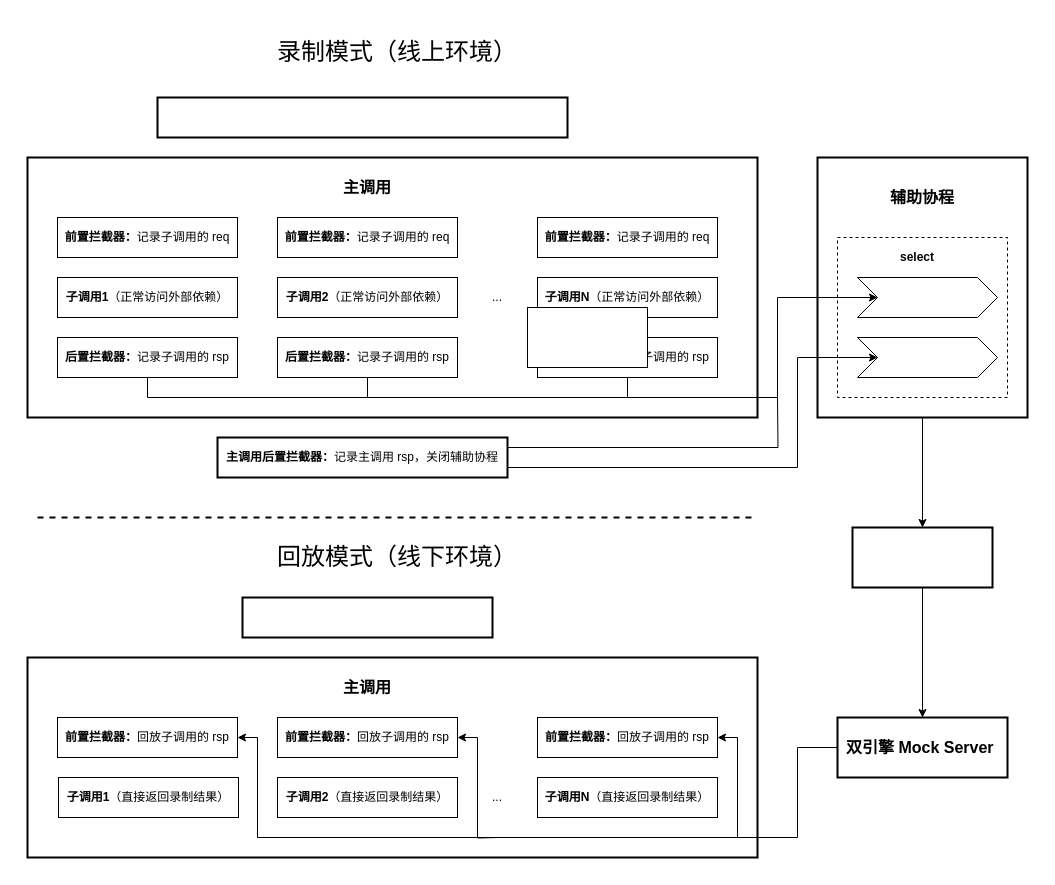
Some shapes in this 1055 by 885 pixel diagram are drawn without their labels. Each missing label, with the centre of its shape:
channel:buffer: the point at 927,297
channel:done: the point at 927,357
主调用前置拦截器： 初始化双引擎状态: the point at 367,617
主调用前置拦截器： 初始化双引擎状态，记录主调用 req，开启辅助协程: the point at 362,117
双引擎 CKafka: the point at 922,557
